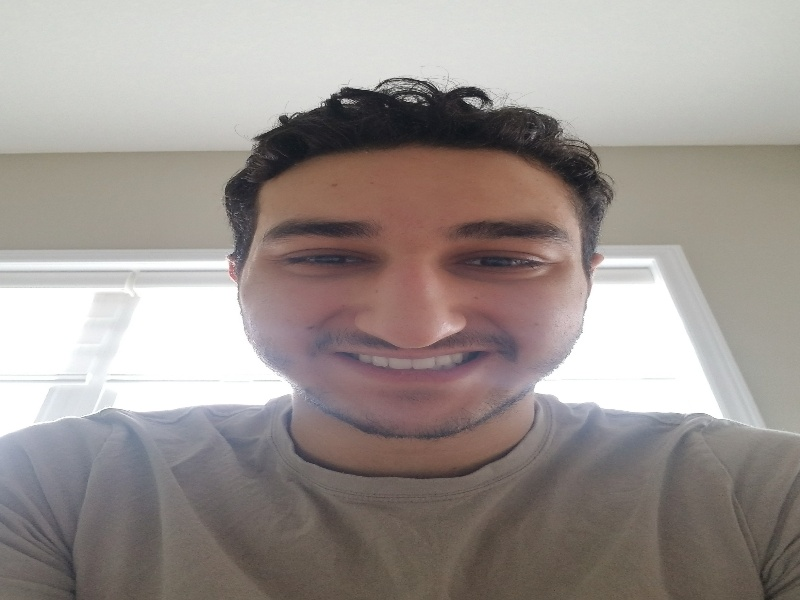smile: (233, 152, 591, 444)
